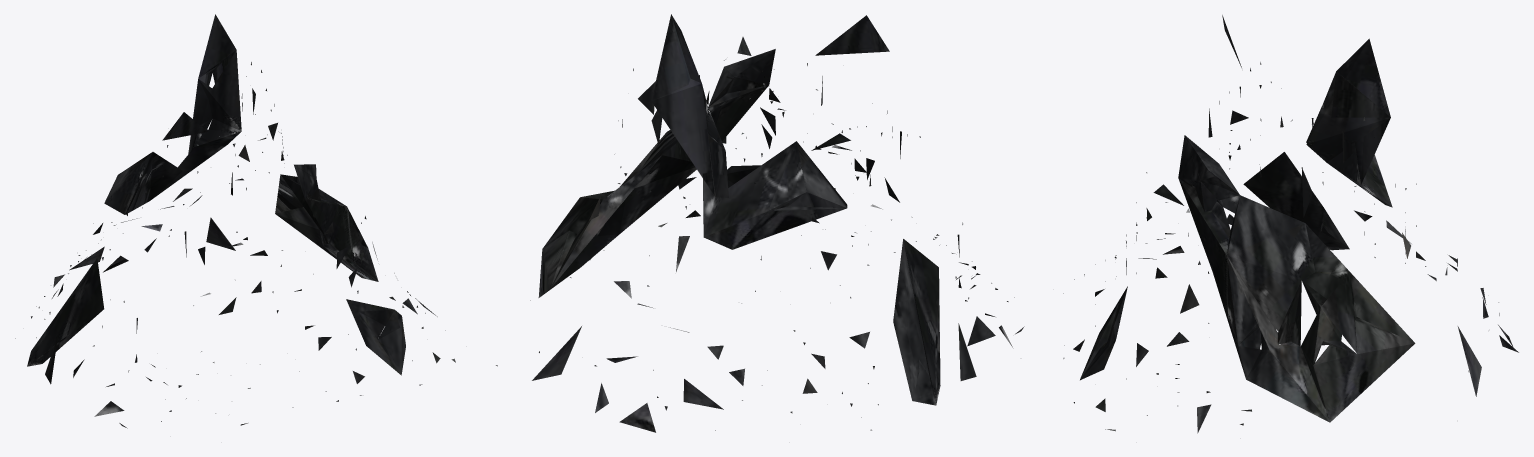
The model's file is alpine_spire_lod0.glb.
3 renders of one model, left to right at view 1: azimuth 30°, elevation 25°; view 2: azimuth 150°, elevation 25°; view 3: azimuth 270°, elevation 25°, orthographic. The views are drawn at different scales.
Parts seen in each view (by area): view 1: alpine_spire_lod0; view 2: alpine_spire_lod0; view 3: alpine_spire_lod0.
Boxes of the visible parts, box(x1,y1,x2,y2) form: alpine_spire_lod0: box(15, 14, 455, 428); alpine_spire_lod0: box(496, 14, 1024, 432); alpine_spire_lod0: box(1063, 15, 1518, 433).
Size of the model in its own units: 0.939 by 0.7226 by 0.9375.
Materials: 1 (1 with a texture image).
